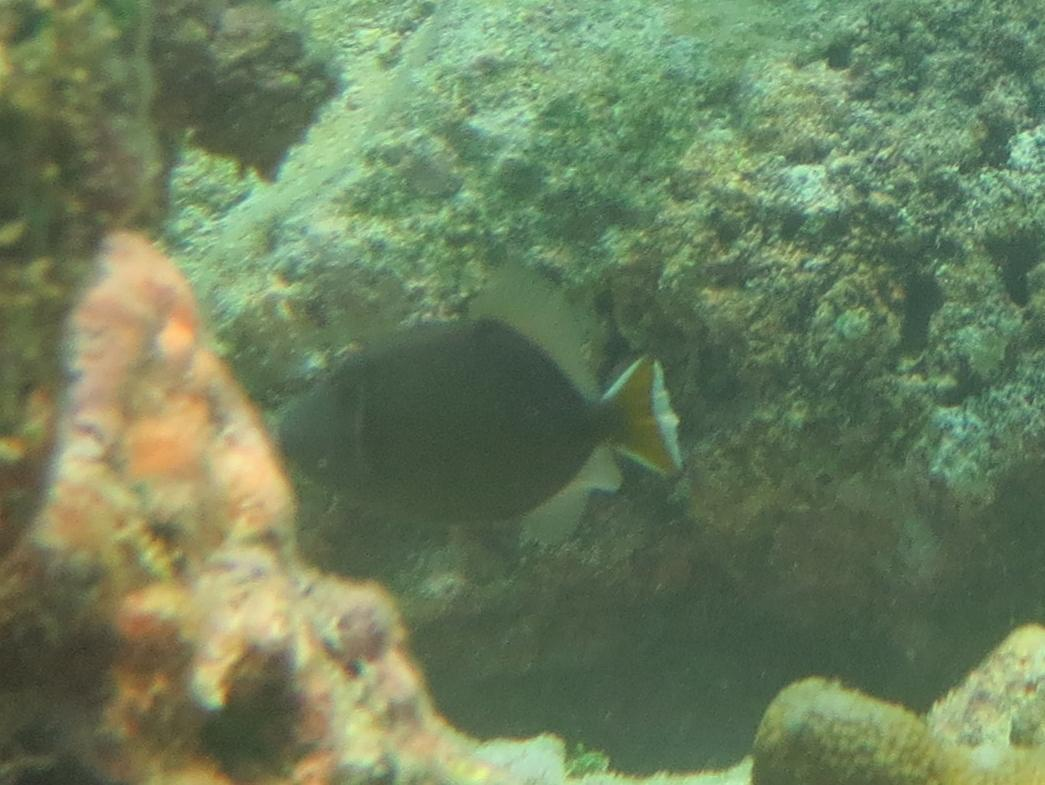Fish: (266, 254, 688, 550)
